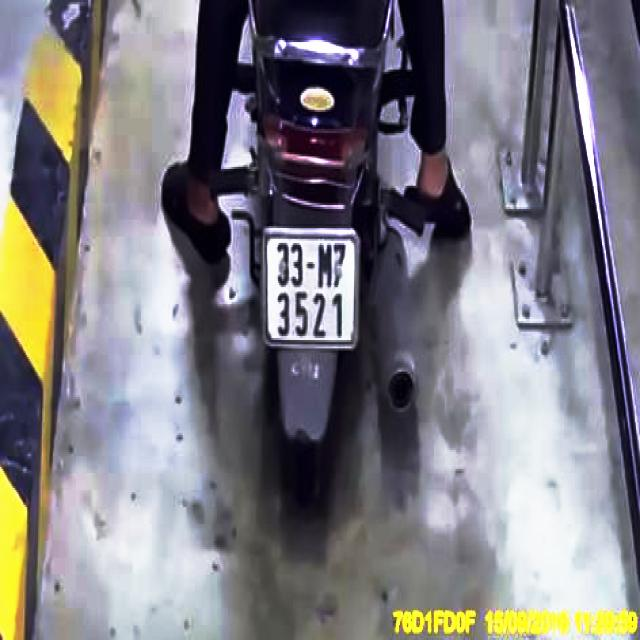license_plate: (266, 237, 358, 343)
